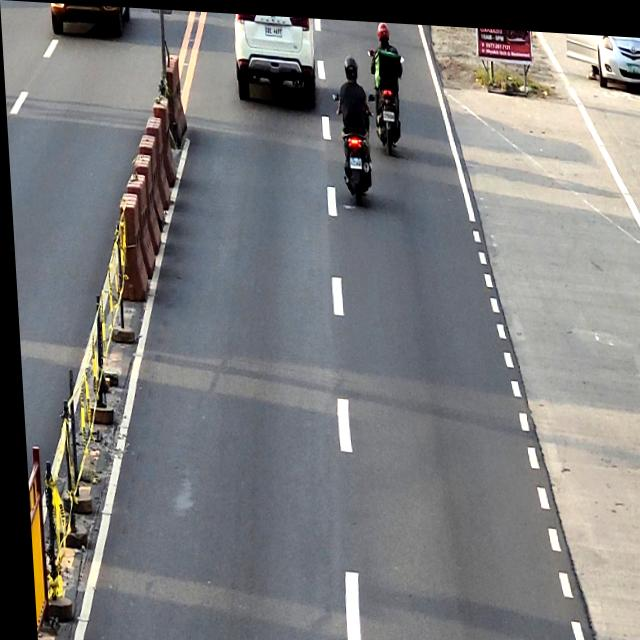Car: (234, 11, 318, 110), (566, 27, 640, 82)
License-Plate: (264, 21, 282, 34), (626, 56, 640, 67), (348, 153, 360, 165), (383, 106, 394, 117)
Motorcycle: (331, 87, 380, 201), (366, 44, 409, 152)
